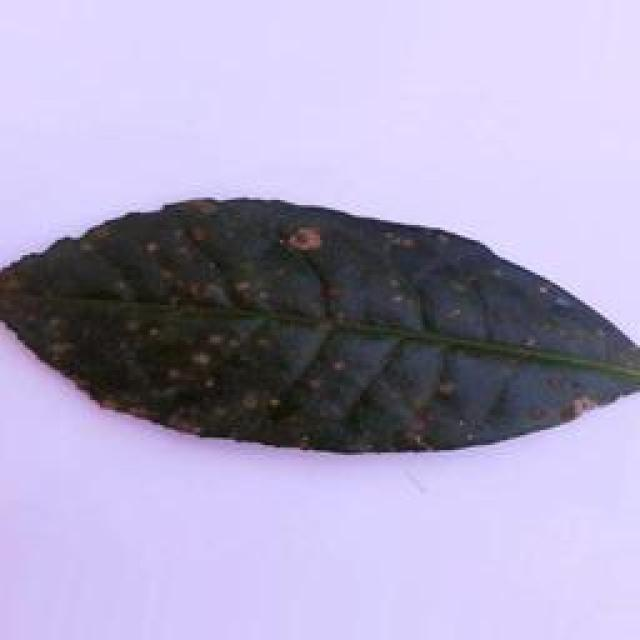Algal Leaf Spot: (2, 193, 640, 464)
